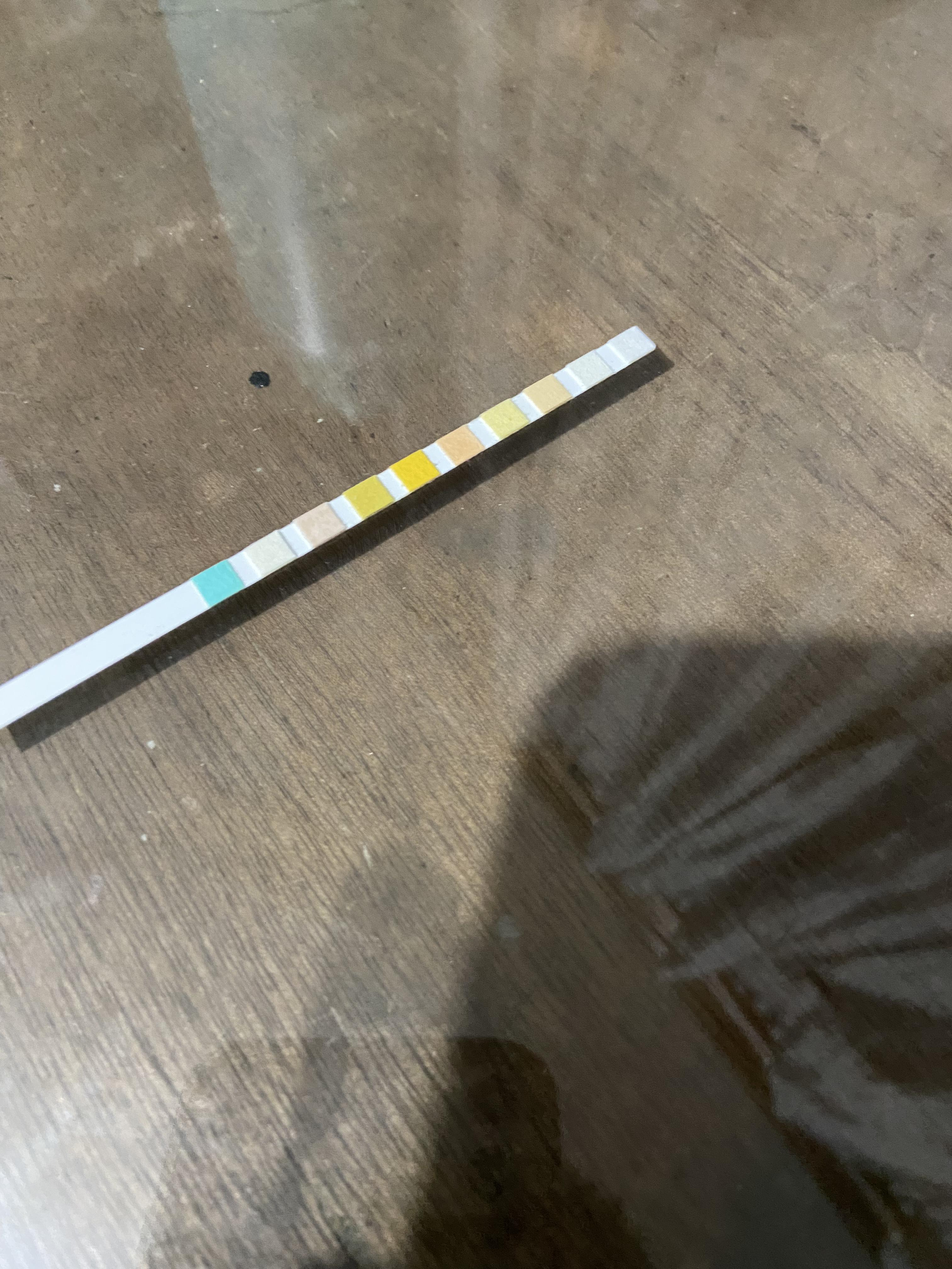Bilirubin: (257, 543, 283, 564)
Blood: (405, 460, 429, 482)
Glucose: (205, 573, 233, 595)
Ketone: (305, 515, 334, 536)
Leukocytes: (623, 333, 644, 356)
Nitrite: (580, 358, 601, 379)
Protein: (495, 408, 517, 429)
SpGravity: (356, 488, 383, 507)
Urobilinogen: (536, 383, 562, 403)
pH: (450, 435, 473, 455)
strip: (0, 327, 655, 729)
